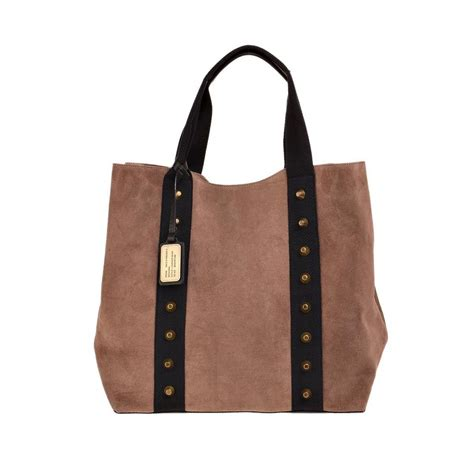gamuza: (94, 161, 389, 415)
